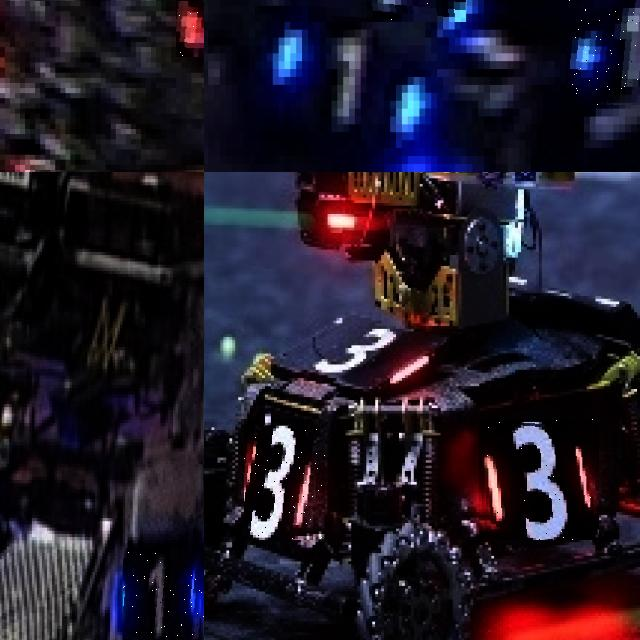B1: (257, 0, 428, 136), (122, 543, 204, 638), (569, 0, 640, 104)
R3: (479, 419, 599, 540), (244, 419, 325, 540)
